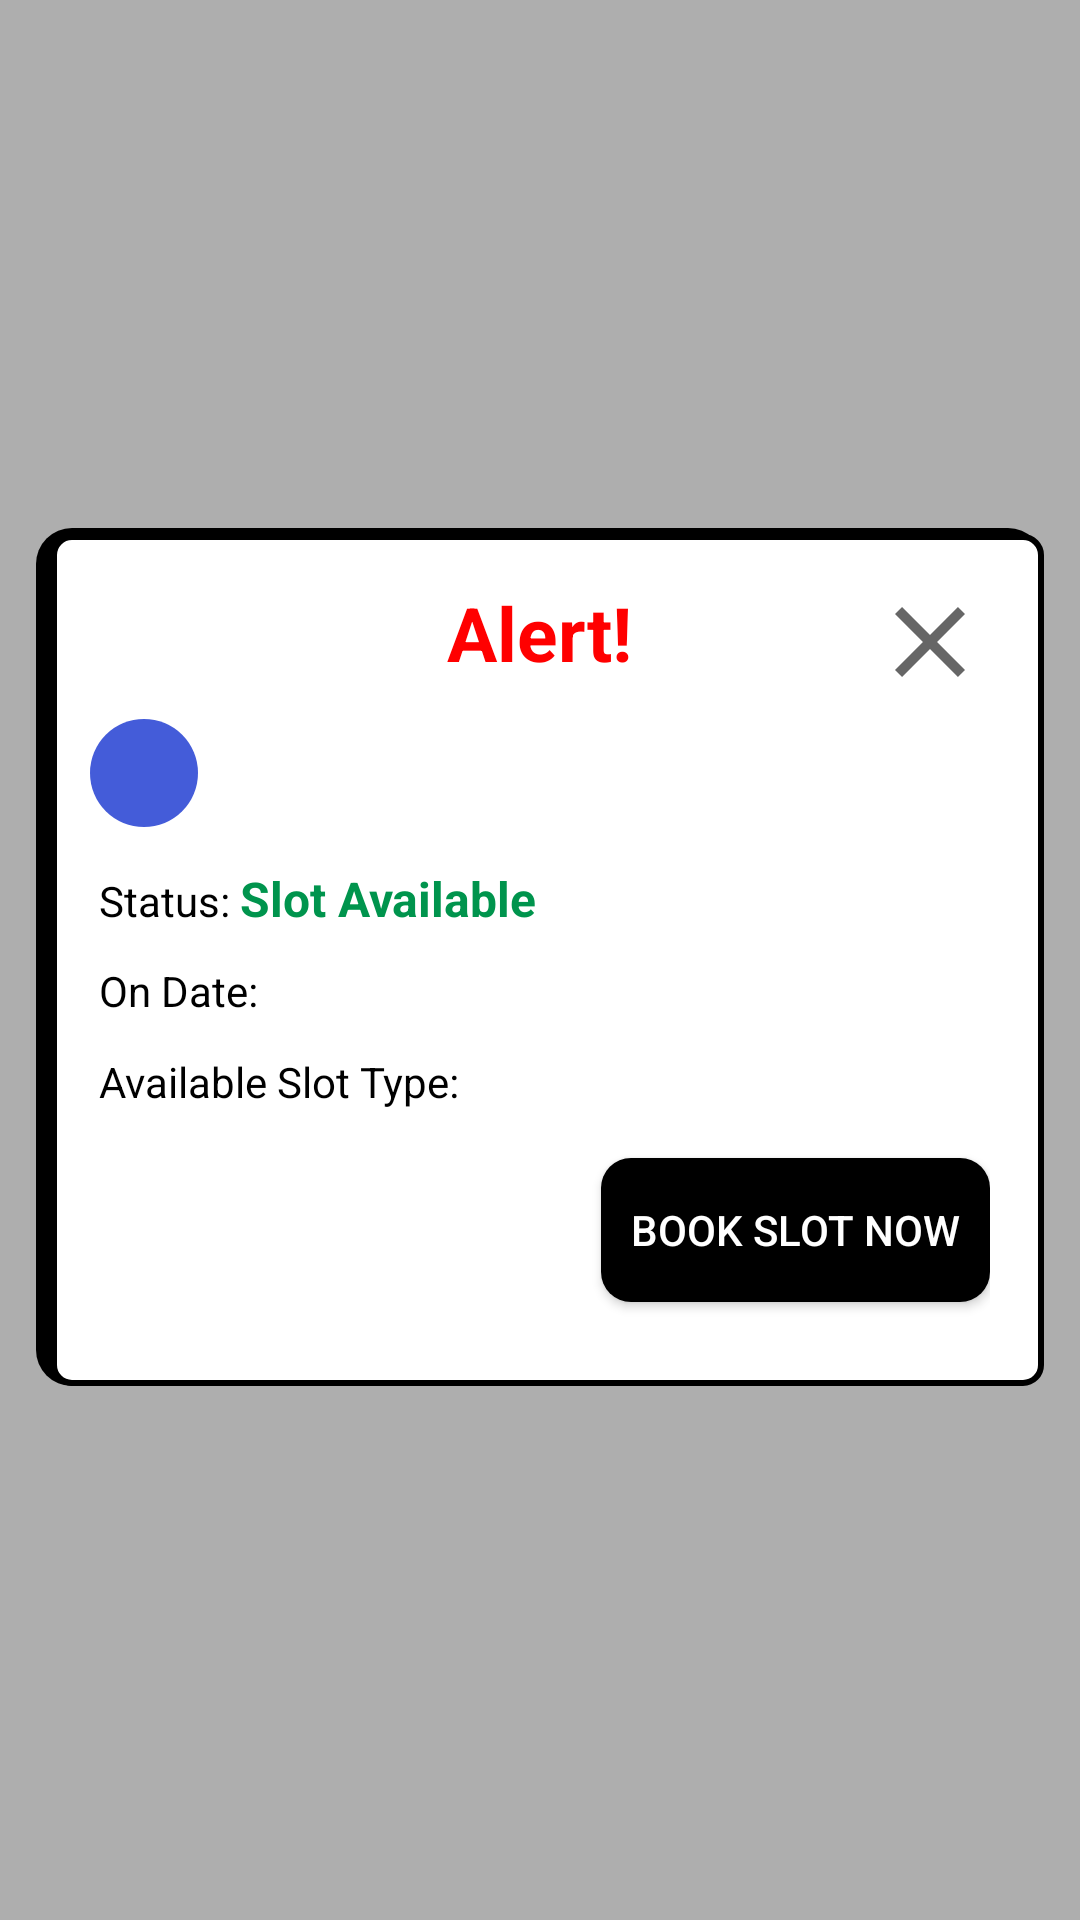

Where to tap for icons on this 1080 x 1920 app screen, as (x=x, y=y):
close popup: (x=930, y=642)
